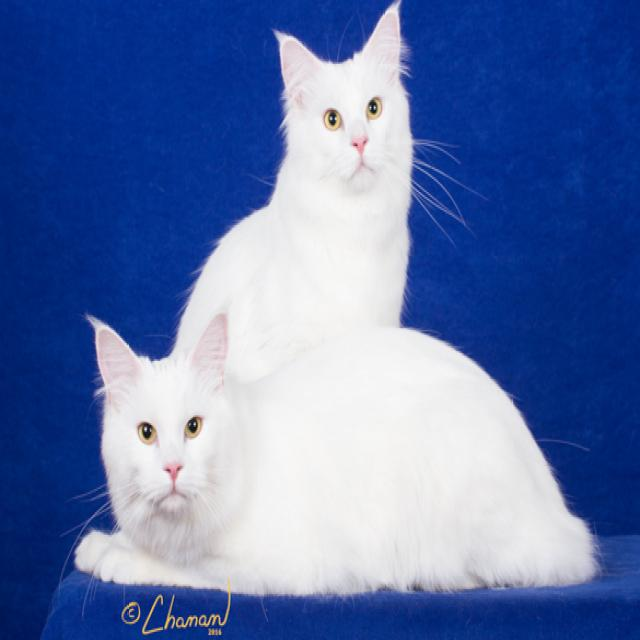American Bobtail: (72, 306, 600, 594), (173, 0, 417, 323)
